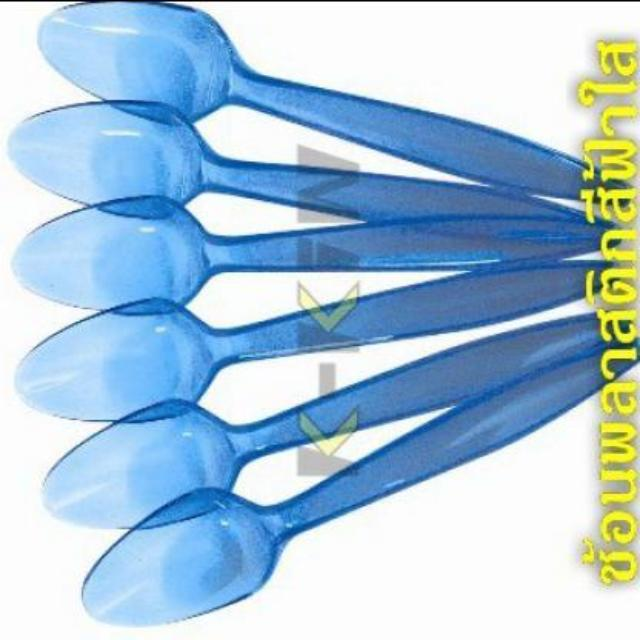plastic_cultery: (9, 2, 638, 624)
